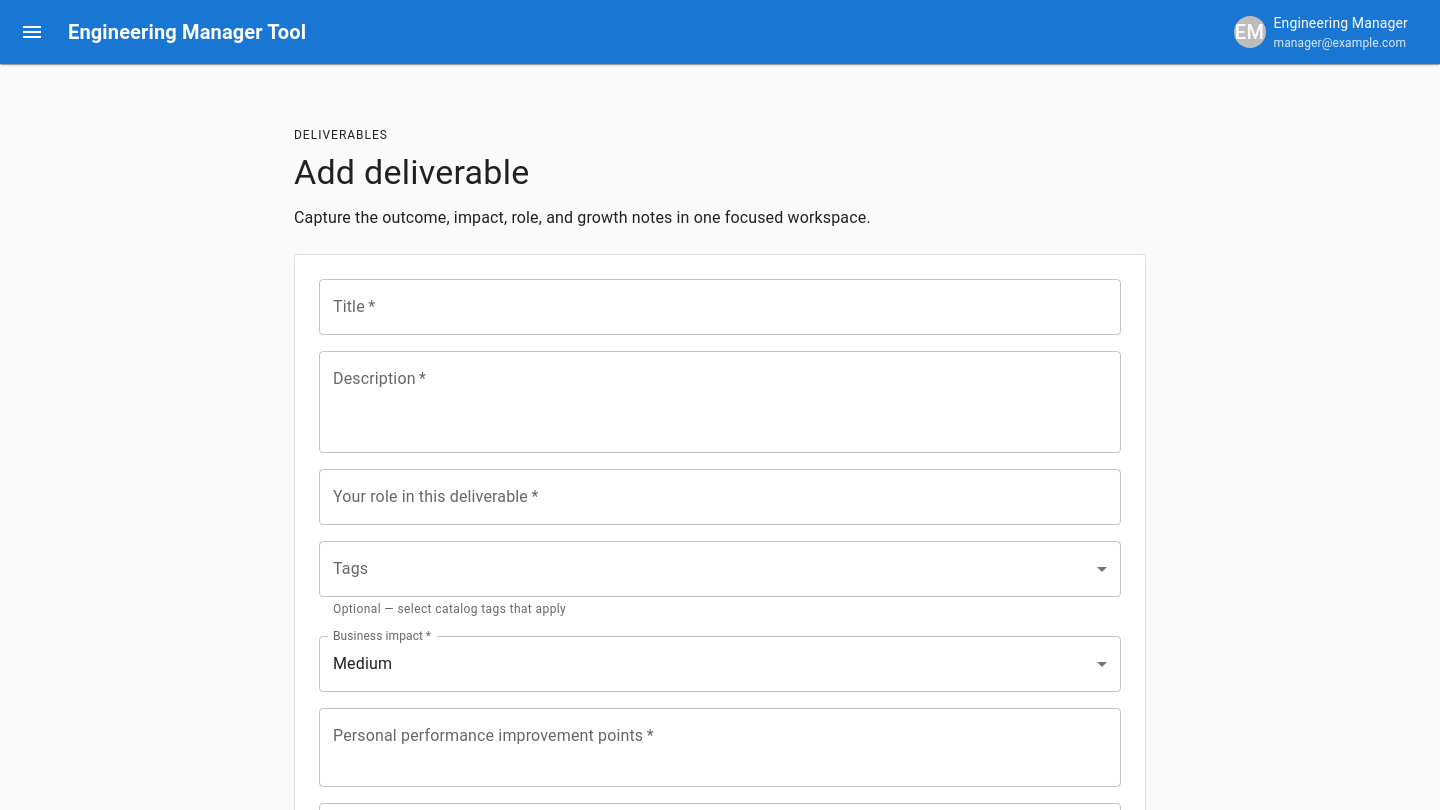
it: US1 deliverable creation › submits create form without system tags
Expected: the heading "Add deliverable" is shown, [294,152,530,192]
Type "Untagged deliverable" into the field labelled "Title".
click(720, 307); type("Untagged deliverable")  # box [319,279,1121,335]
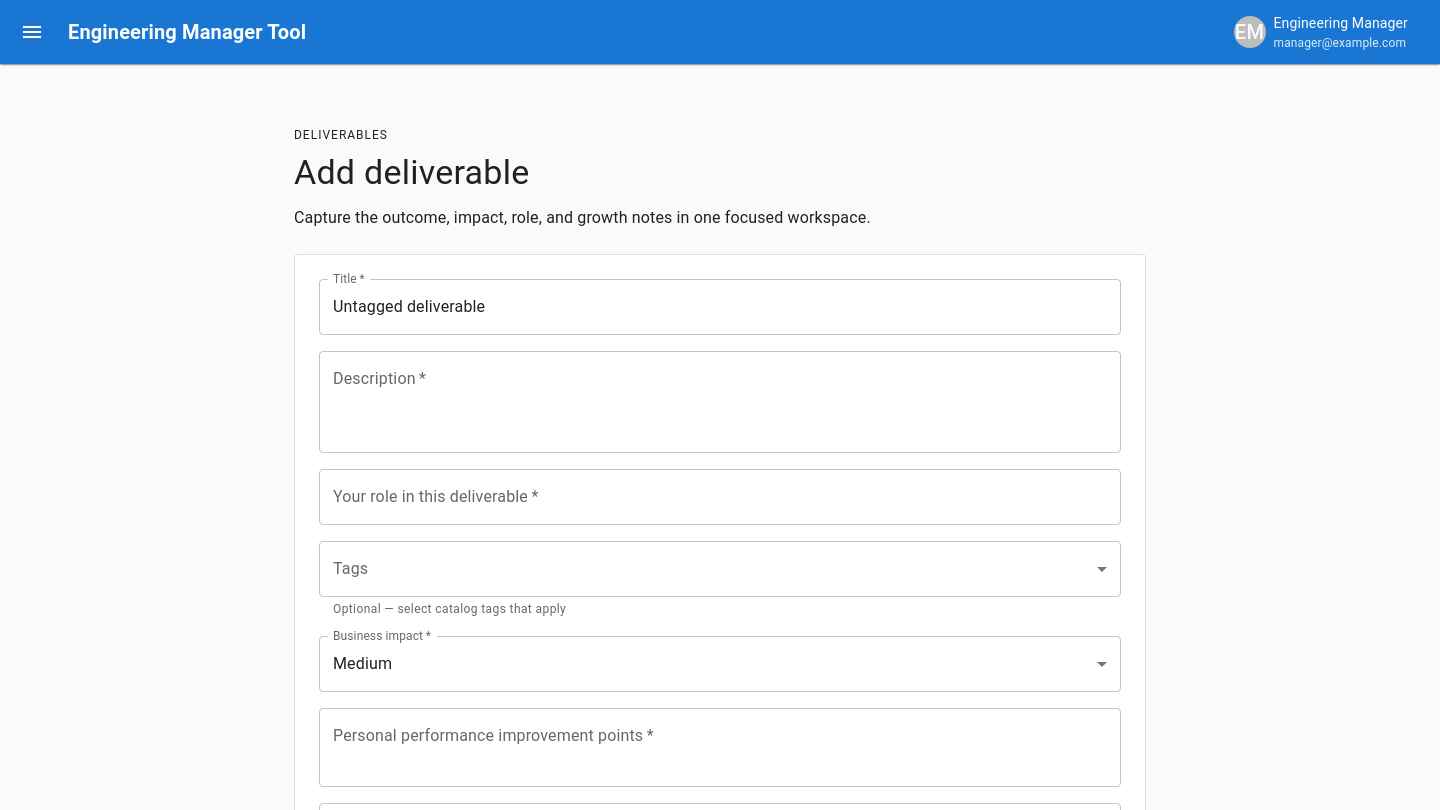
Type "Shipped new API" into the text box labelled "Description".
click(720, 402); type("Shipped new API")  # box [333,367,1107,436]
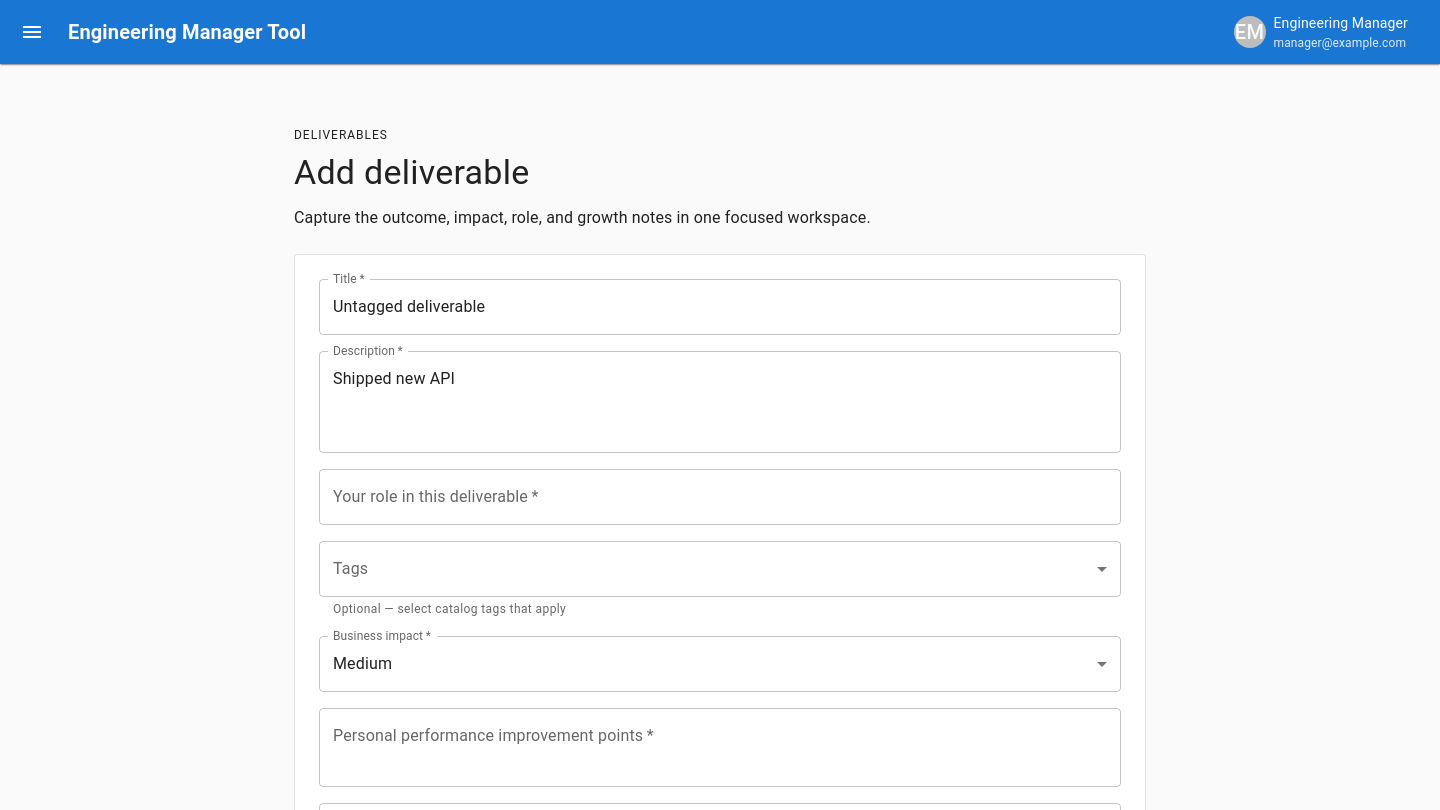
Type "Tech lead" into the field labelled "Your role in this deliverable".
click(720, 497); type("Tech lead")  # box [319,469,1121,525]
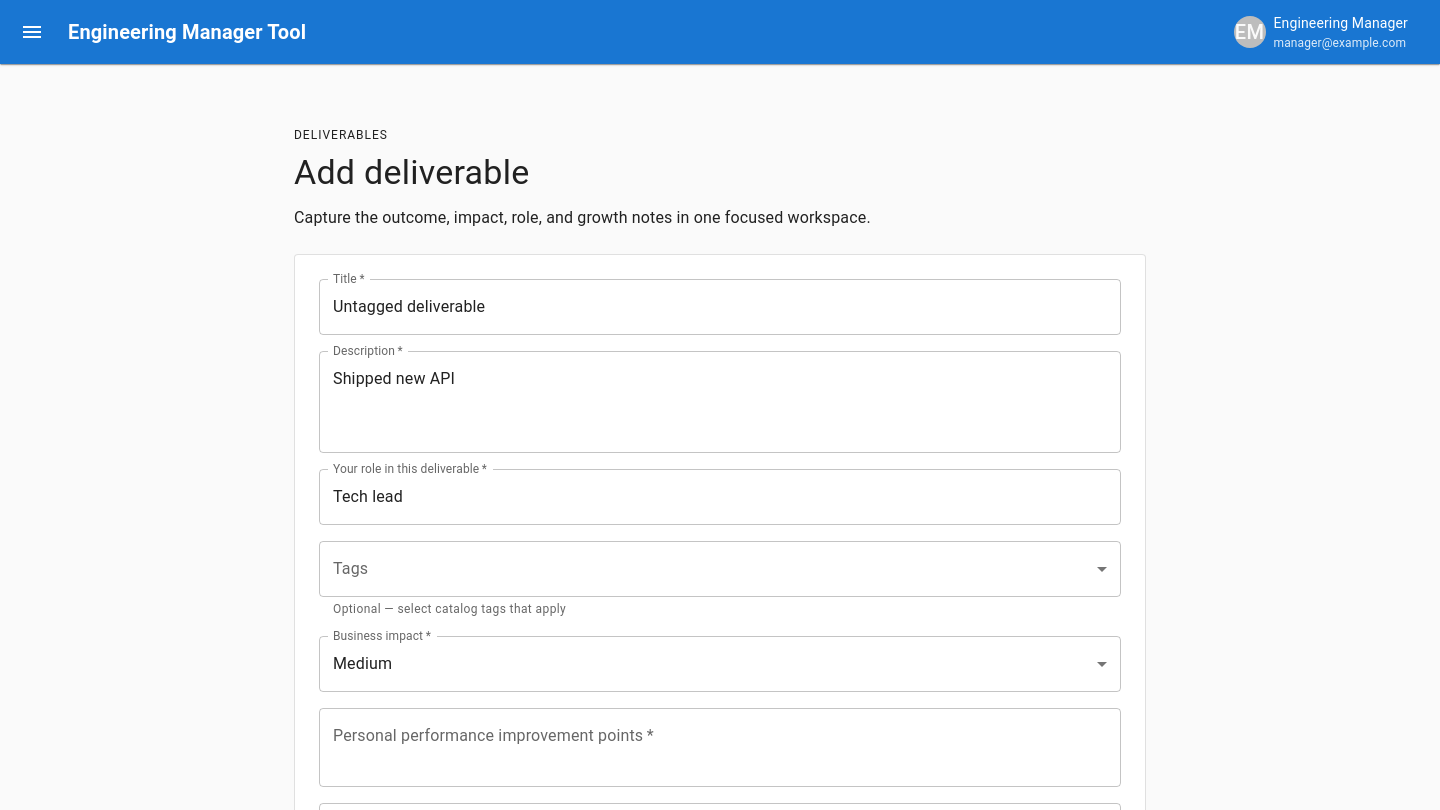
Type "Write more docs" into the text box labelled "Personal performance improvement points".
click(720, 747); type("Write more docs")  # box [333,724,1107,770]
(page scrolled)
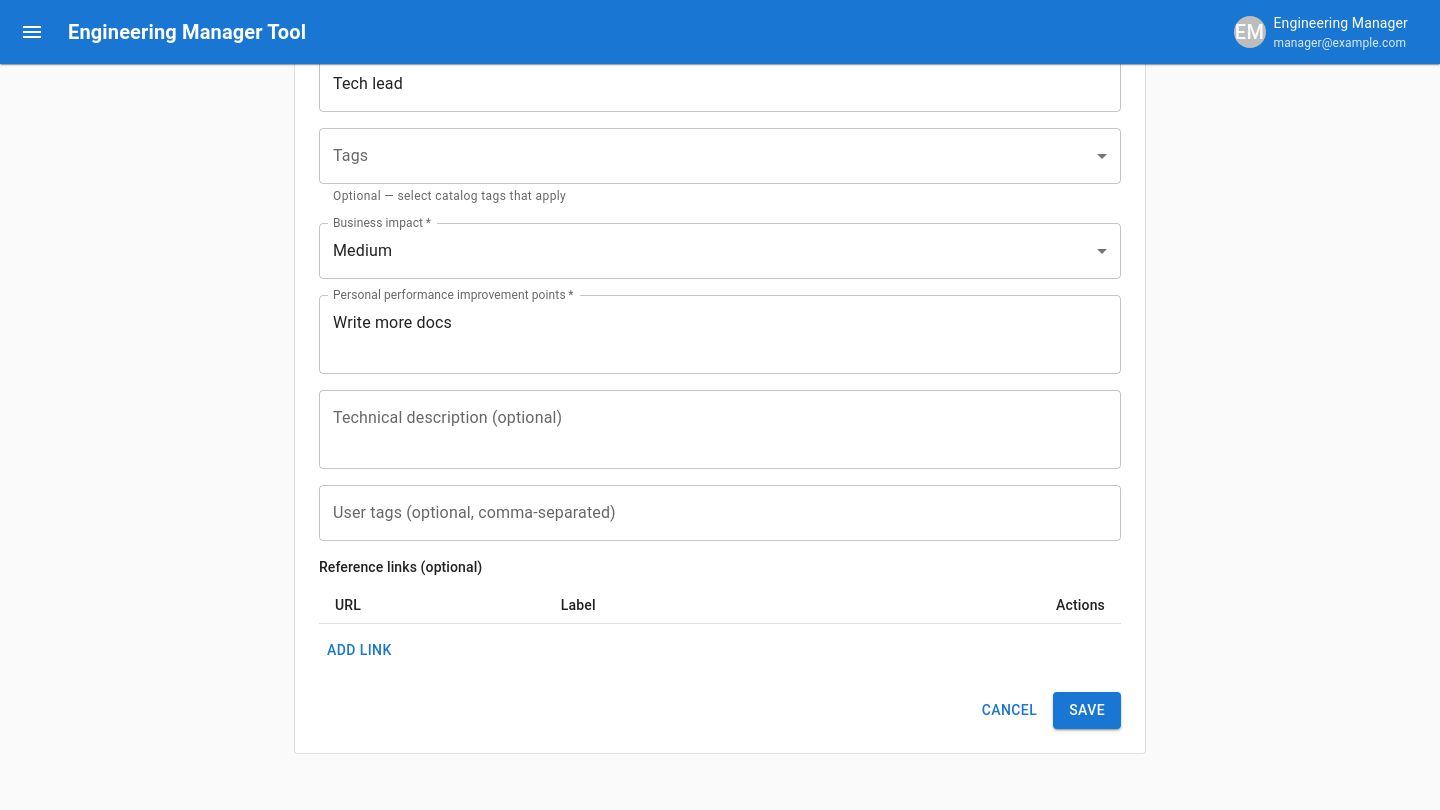
Click the button "Save".
click(1087, 710)  # box [1053,692,1121,729]
(page scrolled)
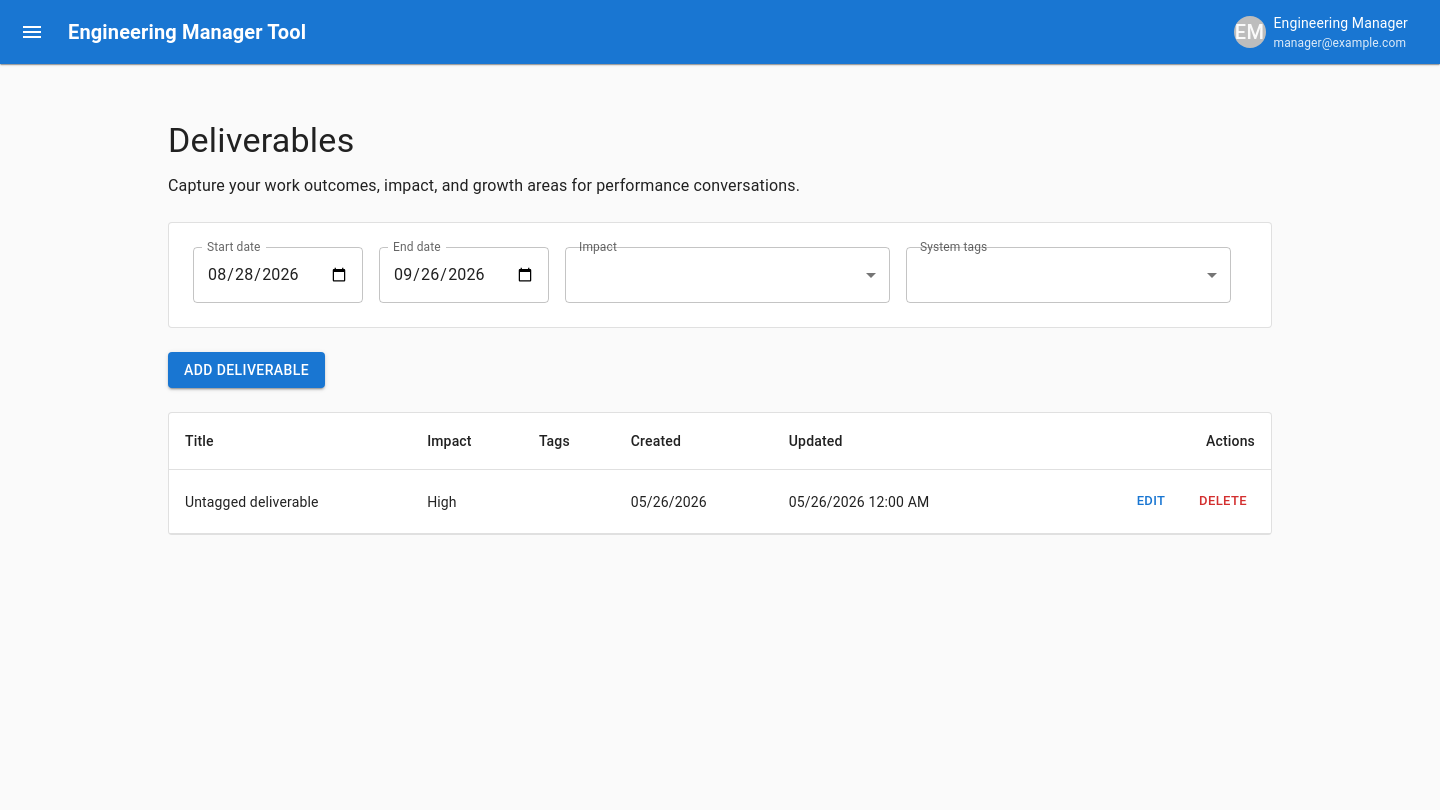
Result: the heading "Deliverables" is shown at [168,120,354,160]
Result: the text "Untagged deliverable" is shown at [169,470,411,534]
